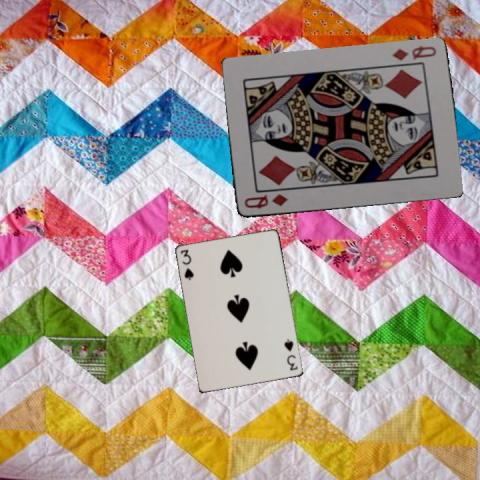3s: (282, 337, 300, 372), (178, 247, 195, 282)
Qd: (390, 43, 438, 63), (241, 191, 289, 210)
